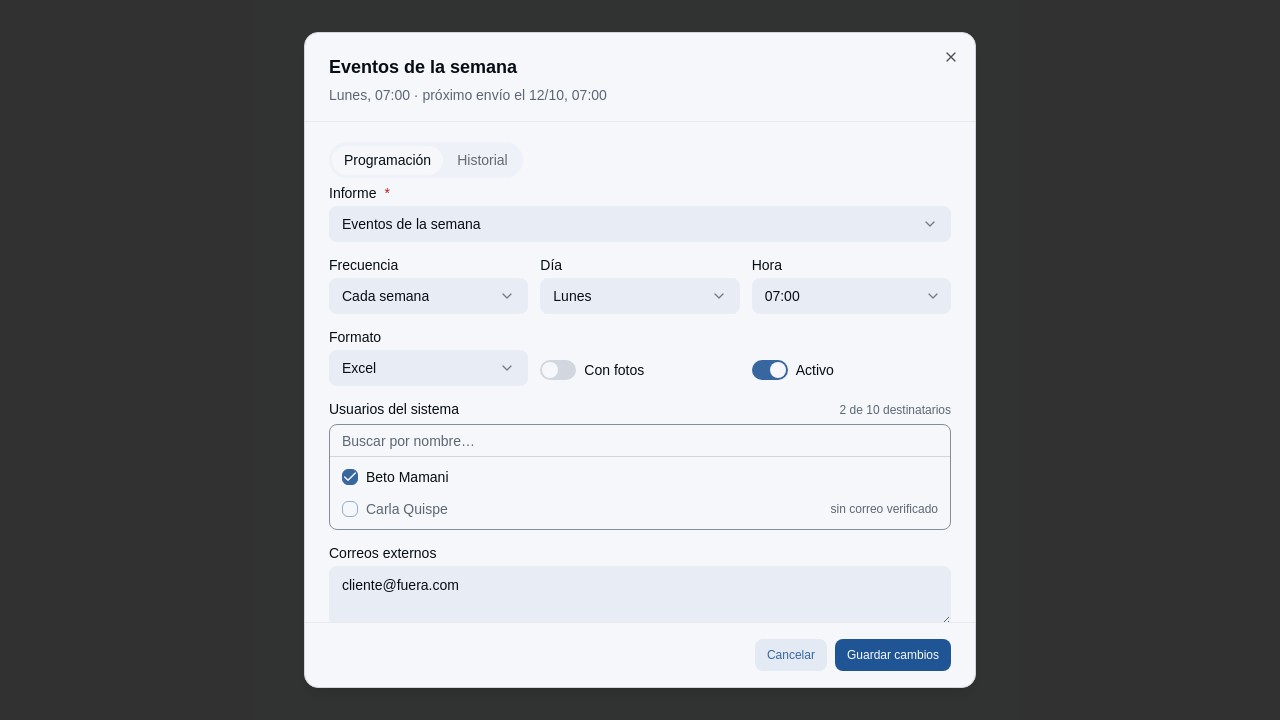
Test: an existing schedule › shows the history, each run with how it ended
Step 1. Click the tab "Historial" → [482, 160], box [444,144,521,176]
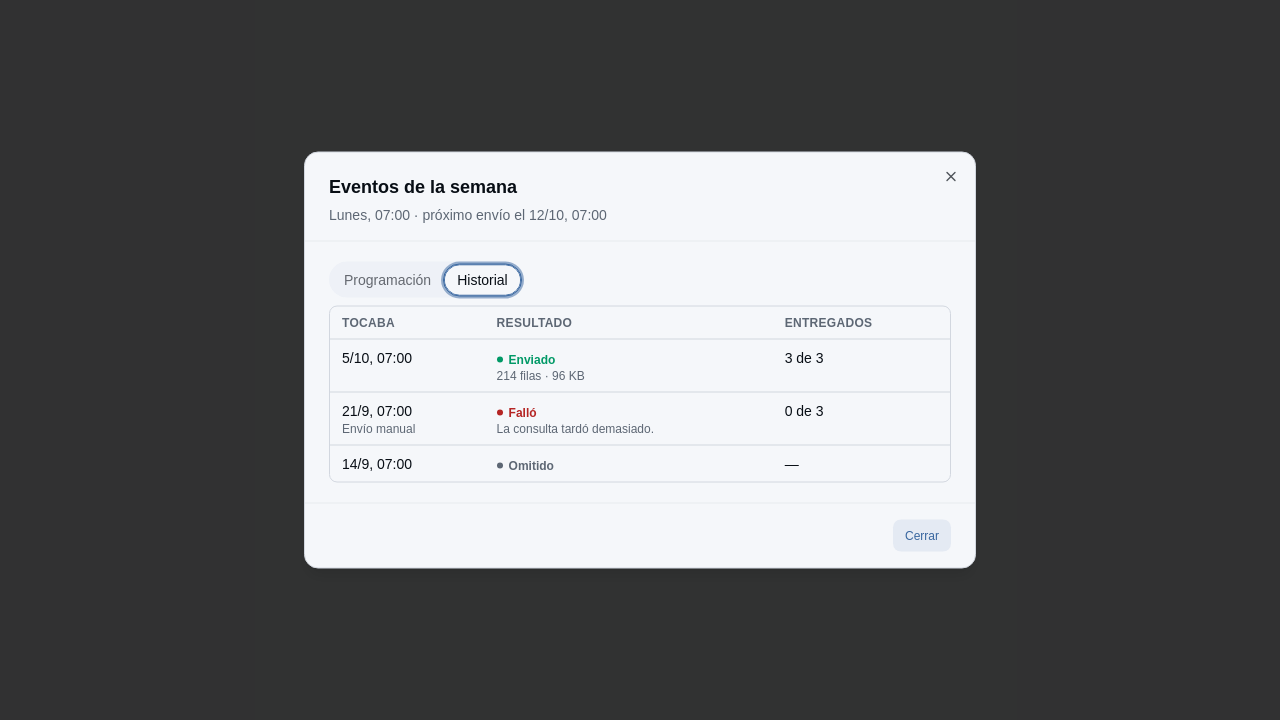
Check: the text "Enviado" is shown, box [497,352,555,368]
Check: the text "214 filas · 96 KB" is shown, box [497,368,585,382]
Check: the text "3 de 3" is shown, box [773,339,950,392]
